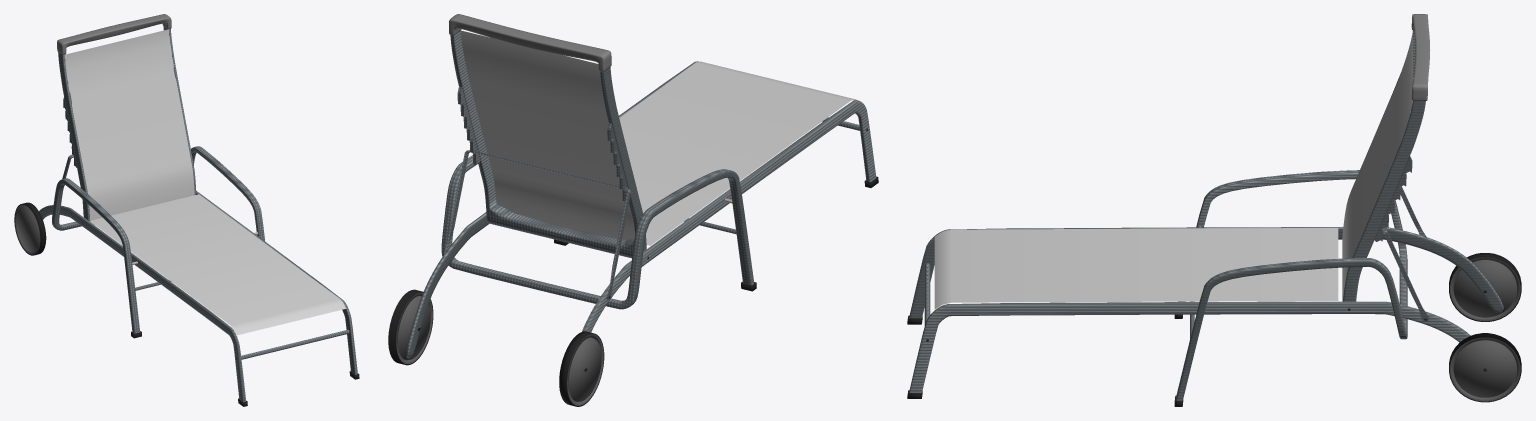
The model's file is beach_chair.obj.
3 views of the same model, side by side, from view 1: azimuth 30°, elevation 25°; view 2: azimuth 150°, elevation 25°; view 3: azimuth 270°, elevation 25° (orthographic). The views are drawn at different scales.
Parts seen in each view (by area): view 1: fabric_Cube_1_1_1_1, fabric_Cube_9_9_9_9, 3_3_3_3, 2_2_2_2, 7_7_7_7, 5_5_5_5, 6_6_6_6; view 2: fabric_Cube_1_1_1_1, 3_3_3_3, fabric_Cube_9_9_9_9, 7_7_7_7, 5_5_5_5, 2_2_2_2, 6_6_6_6, 15_12_12_12; view 3: fabric_Cube_1_1_1_1, 3_3_3_3, fabric_Cube_9_9_9_9, 7_7_7_7, 5_5_5_5, 15_12_12_12, 6_6_6_6, 2_2_2_2.
Boxes of the visible parts, x1,y1,x2,y2 form: fabric_Cube_1_1_1_1: (64, 29, 345, 335); fabric_Cube_9_9_9_9: (66, 31, 344, 334); 3_3_3_3: (39, 26, 357, 402); 2_2_2_2: (57, 14, 171, 54); 7_7_7_7: (14, 204, 40, 254); 5_5_5_5: (62, 97, 349, 359); 6_6_6_6: (14, 202, 359, 406); fabric_Cube_1_1_1_1: (461, 30, 856, 245); 3_3_3_3: (406, 30, 876, 358); fabric_Cube_9_9_9_9: (461, 31, 855, 244); 7_7_7_7: (396, 292, 603, 405); 5_5_5_5: (444, 86, 859, 299); 2_2_2_2: (449, 14, 611, 71); 6_6_6_6: (388, 176, 878, 406); 15_12_12_12: (397, 293, 603, 404); fabric_Cube_1_1_1_1: (934, 30, 1412, 309); 3_3_3_3: (909, 30, 1503, 400); fabric_Cube_9_9_9_9: (934, 34, 1412, 306); 7_7_7_7: (1450, 257, 1520, 401); 5_5_5_5: (924, 156, 1429, 338); 15_12_12_12: (1450, 257, 1520, 401); 6_6_6_6: (907, 253, 1521, 406); 2_2_2_2: (1411, 14, 1429, 100).
Size of the model in its own units: 69.59 by 108 by 193.
Materials: 7 (1 with a texture image).
